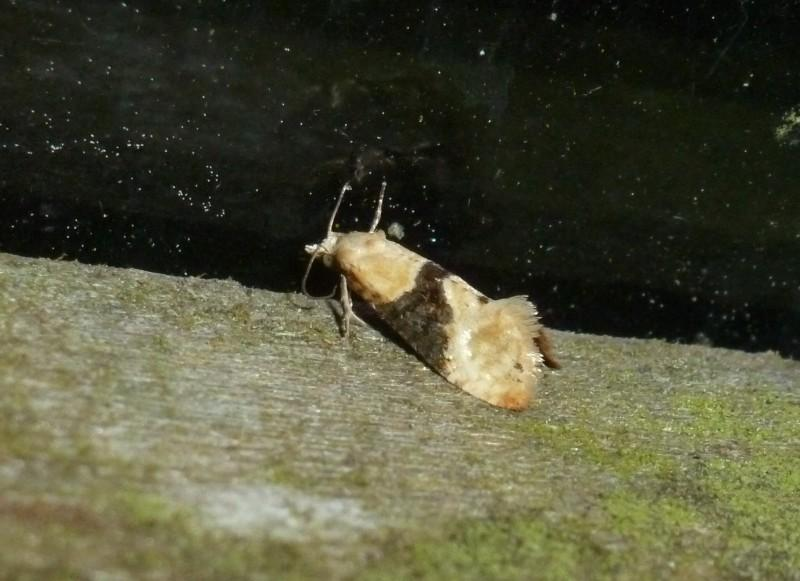Eupoecilia Ambiguella: (299, 178, 563, 413)
